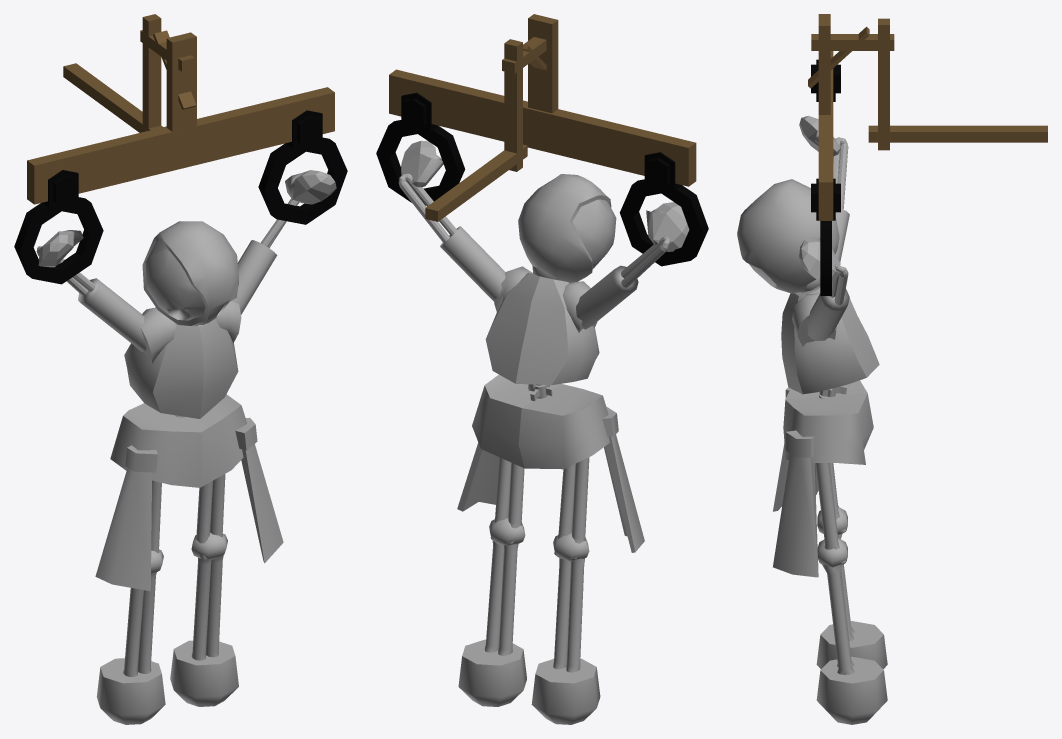
Rendered from Prisoner Hanging From Wall.fbx.
The picture shows the model from 3 angles, left to right: view 1: azimuth 30°, elevation 25°; view 2: azimuth 150°, elevation 25°; view 3: azimuth 270°, elevation 25°; orthographic projection.
Visible parts, largest first — view 1: Holder, Rungs, polySurface11, polySurface22, polySurface10, polySurface25, polySurface32, polySurface31, polySurface6, polySurface24, polySurface1, polySurface4 (+11 smaller); view 2: Holder, polySurface22, polySurface10, Rungs, polySurface11, polySurface32, polySurface31, polySurface6, polySurface4, polySurface25, polySurface1, polySurface24 (+14 smaller); view 3: Holder, polySurface11, polySurface10, polySurface22, polySurface24, polySurface31, Rungs, polySurface32, polySurface30, polySurface6, polySurface4, polySurface20 (+5 smaller).
Part boxes in pixels (x1=…): Holder: x1=27, y1=14, x2=334, y2=204; Rungs: x1=14, y1=110, x2=347, y2=284; polySurface11: x1=142, y1=221, x2=238, y2=326; polySurface22: x1=110, y1=394, x2=247, y2=487; polySurface10: x1=124, y1=307, x2=238, y2=418; polySurface25: x1=95, y1=468, x2=152, y2=591; polySurface32: x1=96, y1=658, x2=165, y2=724; polySurface31: x1=170, y1=640, x2=238, y2=706; polySurface6: x1=38, y1=170, x2=336, y2=267; polySurface24: x1=241, y1=444, x2=283, y2=563; polySurface1: x1=78, y1=278, x2=146, y2=351; polySurface4: x1=232, y1=240, x2=277, y2=314; Holder: x1=389, y1=14, x2=696, y2=221; polySurface22: x1=472, y1=374, x2=609, y2=469; polySurface10: x1=485, y1=272, x2=599, y2=385; Rungs: x1=376, y1=92, x2=708, y2=266; polySurface11: x1=518, y1=174, x2=616, y2=282; polySurface32: x1=531, y1=658, x2=600, y2=724; polySurface31: x1=458, y1=639, x2=526, y2=706; polySurface6: x1=401, y1=140, x2=689, y2=251; polySurface4: x1=440, y1=226, x2=505, y2=301; polySurface25: x1=604, y1=434, x2=644, y2=552; polySurface1: x1=576, y1=265, x2=638, y2=329; polySurface24: x1=457, y1=442, x2=499, y2=511; Holder: x1=808, y1=14, x2=1047, y2=220; polySurface11: x1=737, y1=179, x2=839, y2=293; polySurface10: x1=781, y1=285, x2=879, y2=394; polySurface22: x1=783, y1=380, x2=873, y2=464; polySurface24: x1=773, y1=454, x2=818, y2=577; polySurface31: x1=816, y1=656, x2=887, y2=724; Rungs: x1=811, y1=59, x2=840, y2=295; polySurface32: x1=816, y1=621, x2=887, y2=669; polySurface30: x1=822, y1=564, x2=854, y2=674; polySurface6: x1=799, y1=115, x2=840, y2=281; polySurface4: x1=807, y1=289, x2=849, y2=340; polySurface20: x1=815, y1=463, x2=846, y2=564.
Bounding box in the file's own units: 10.01 × 19.85 × 8.24.
